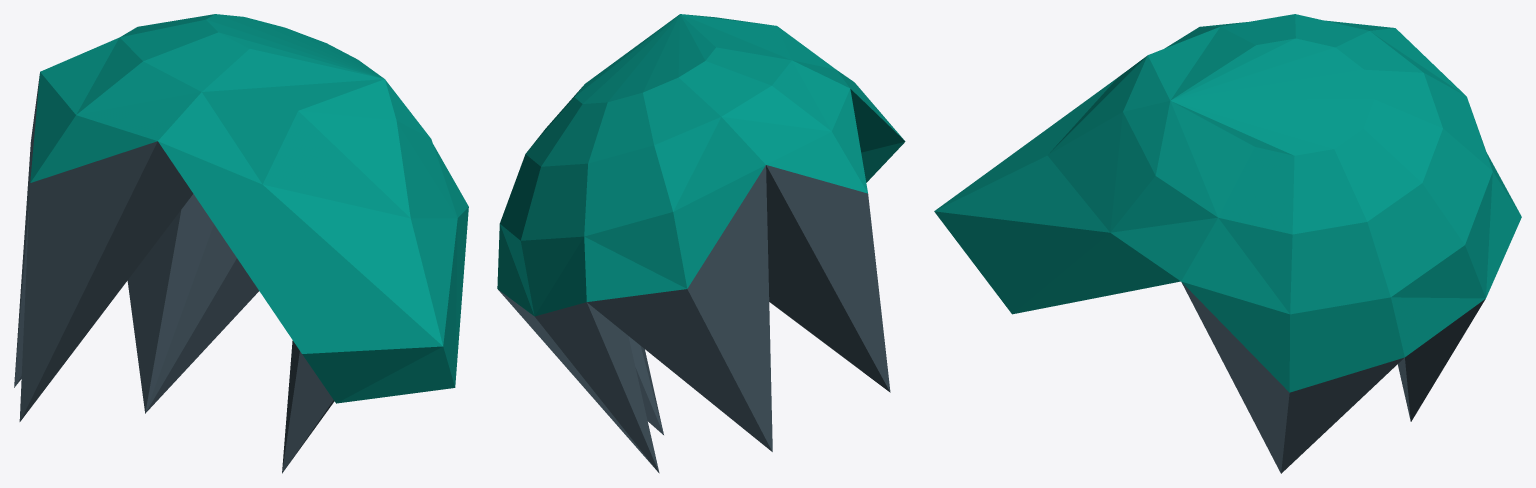
The model's file is n5_group1324845247_lev5.glb.
The picture shows the model from 3 angles, left to right: view 1: azimuth 30°, elevation 25°; view 2: azimuth 150°, elevation 25°; view 3: azimuth 270°, elevation 25°; orthographic projection. The views are drawn at different scales.
Parts seen in each view (by area): view 1: n5_group1324845247_lev5; view 2: n5_group1324845247_lev5; view 3: n5_group1324845247_lev5.
Part boxes in pixels (x1,y1,x2,y2): n5_group1324845247_lev5: (14, 14, 468, 473); n5_group1324845247_lev5: (497, 14, 905, 473); n5_group1324845247_lev5: (934, 14, 1521, 473).
Size of the model in its own units: 1.42 by 1.48 by 1.92.
